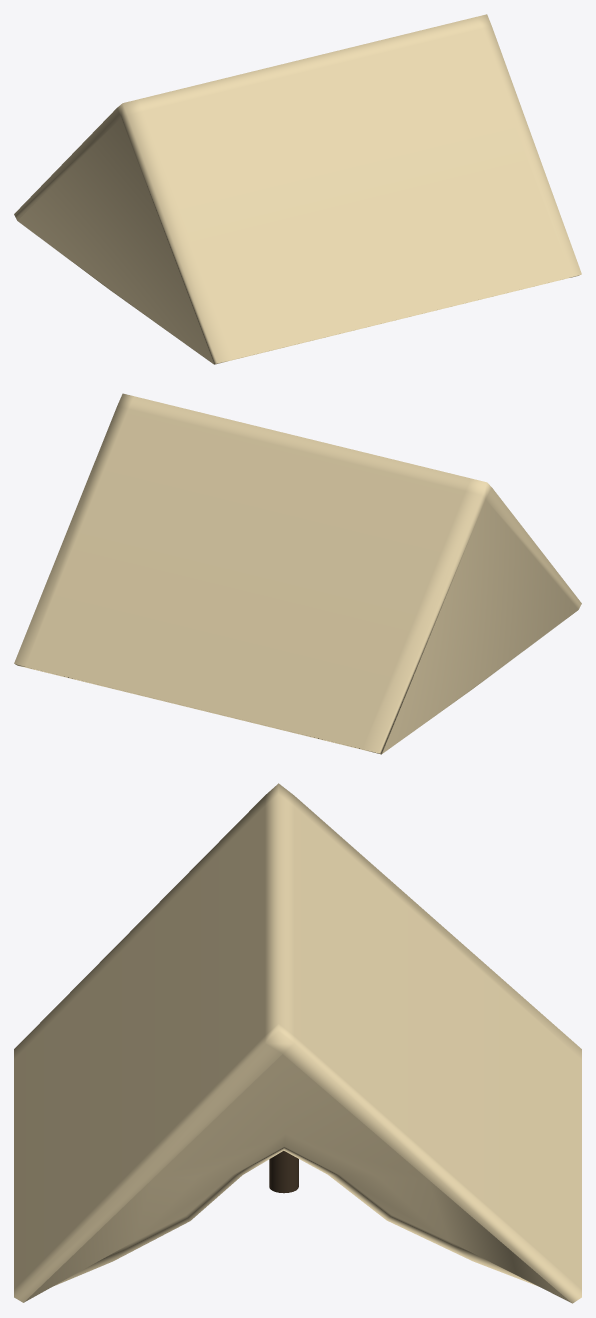
The model's file is cabana.fbx.
The picture shows the model from 3 angles, top to bottom: view 1: azimuth 30°, elevation 25°; view 2: azimuth 150°, elevation 25°; view 3: azimuth 270°, elevation 25°; orthographic projection. The views are drawn at different scales.
Visible parts, largest first — view 1: pCube1; view 2: pCube1; view 3: pCube1, pCylinder1.
Part boxes in pixels (<box>): pCube1: <box>14,14,581,364</box>; pCube1: <box>14,393,581,754</box>; pCube1: <box>14,783,581,1303</box>; pCylinder1: <box>269,1151,298,1193</box>.
Bounding box in the file's own units: 4.93 × 2.62 × 4.77.
